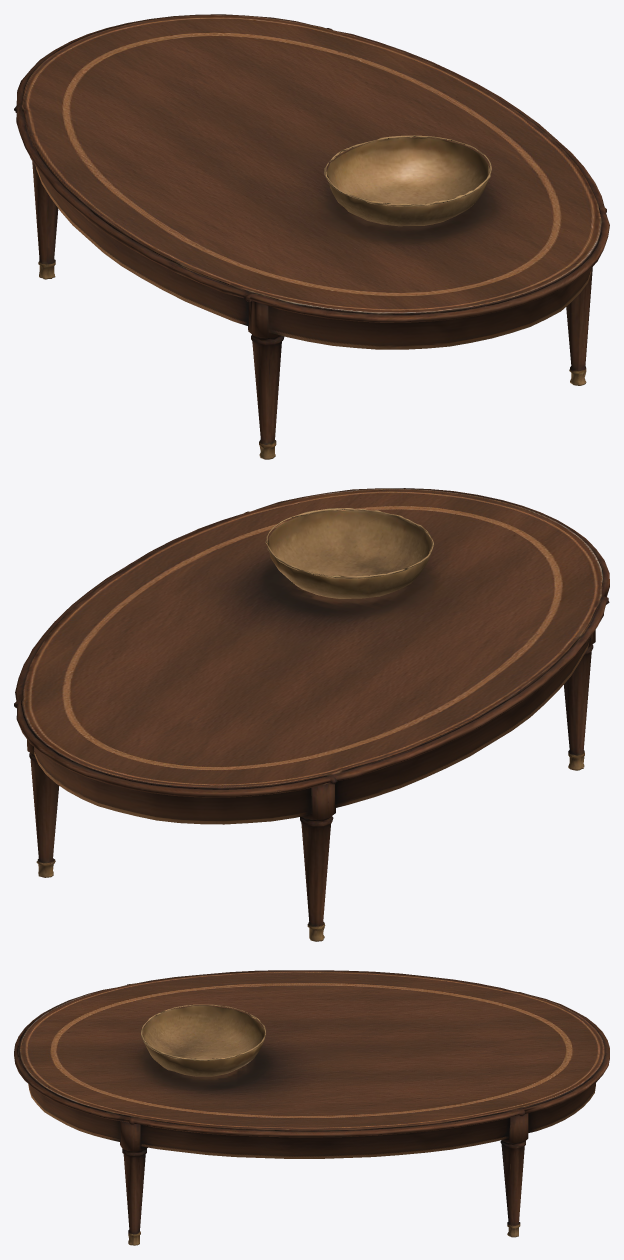
3 views of the same model, one above another, from view 1: azimuth 30°, elevation 25°; view 2: azimuth 150°, elevation 25°; view 3: azimuth 270°, elevation 25° (orthographic). The views are drawn at different scales.
Parts seen in each view (by area): view 1: tripo_node_ca91af58-1c79-4c68-bc6d-131d4cb0edf7; view 2: tripo_node_ca91af58-1c79-4c68-bc6d-131d4cb0edf7; view 3: tripo_node_ca91af58-1c79-4c68-bc6d-131d4cb0edf7.
Part boxes in pixels (x1=…): tripo_node_ca91af58-1c79-4c68-bc6d-131d4cb0edf7: x1=14, y1=14, x2=609, y2=459; tripo_node_ca91af58-1c79-4c68-bc6d-131d4cb0edf7: x1=14, y1=488, x2=609, y2=941; tripo_node_ca91af58-1c79-4c68-bc6d-131d4cb0edf7: x1=14, y1=970, x2=609, y2=1245.
Bounding box in the file's own units: 0.6504 × 0.3027 × 0.998.
1 material, 1 textured.
